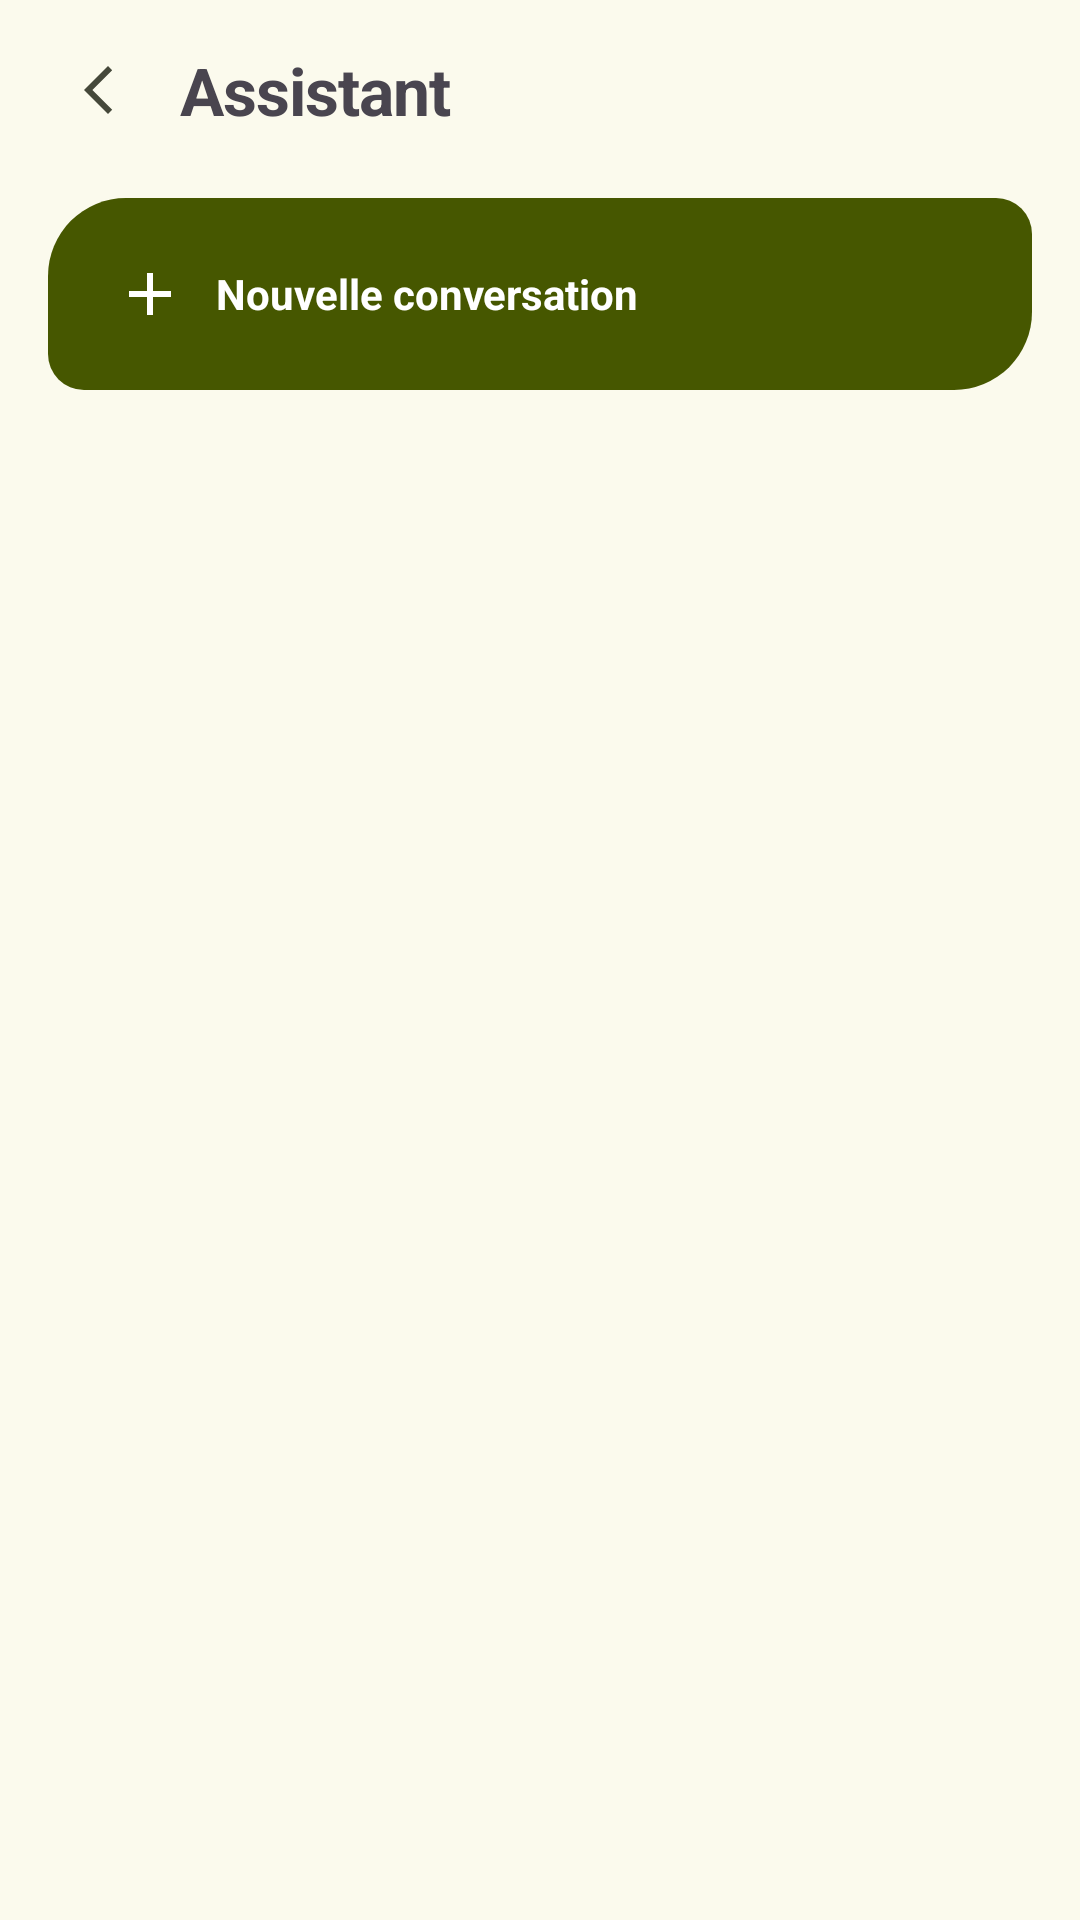

Where to tap for icons on this 1080px×1920px app screen, as (x,y):
plus: (150,294)
Retour: (98,90)
